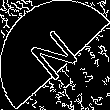N_SE: (25, 23, 85, 87)
